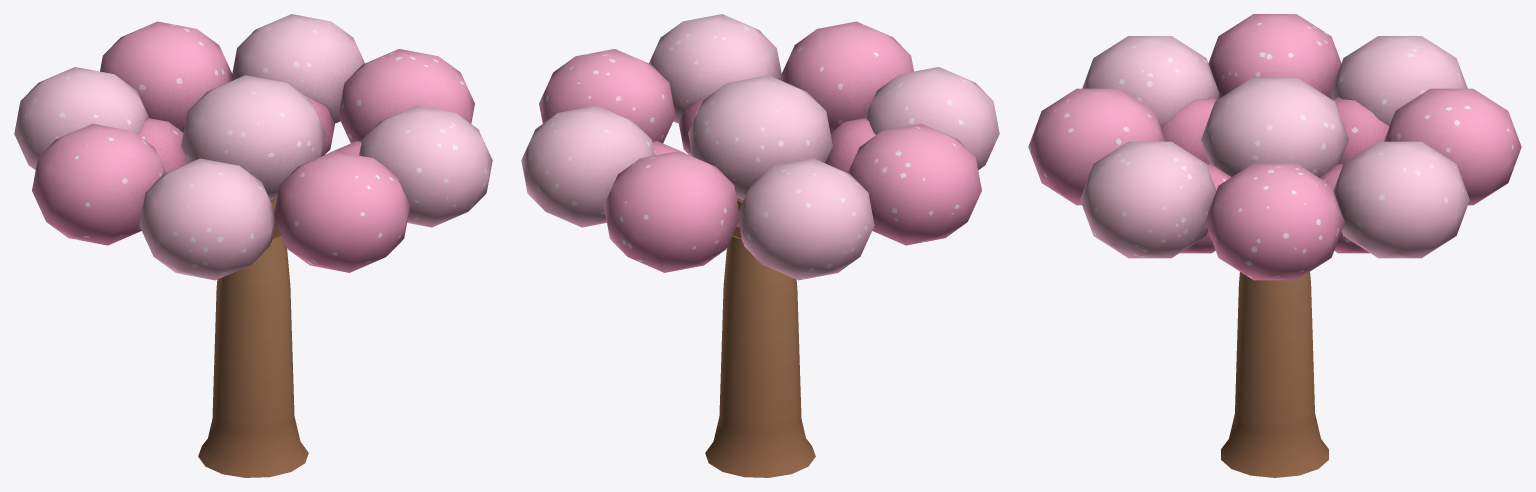
The model's file is wheel_tree.fbx.
3 views of the same model, side by side, from view 1: azimuth 30°, elevation 25°; view 2: azimuth 150°, elevation 25°; view 3: azimuth 270°, elevation 25° (orthographic).
Visible parts, largest first — view 1: wheel_tree; view 2: wheel_tree; view 3: wheel_tree.
Boxes of the visible parts, box(x1,y1,x2,y2) form: wheel_tree: box(14, 14, 492, 477); wheel_tree: box(521, 14, 999, 477); wheel_tree: box(1028, 14, 1521, 477).
Size of the model in its own units: 2367 by 1996 by 2400.
1 material, 1 textured.
